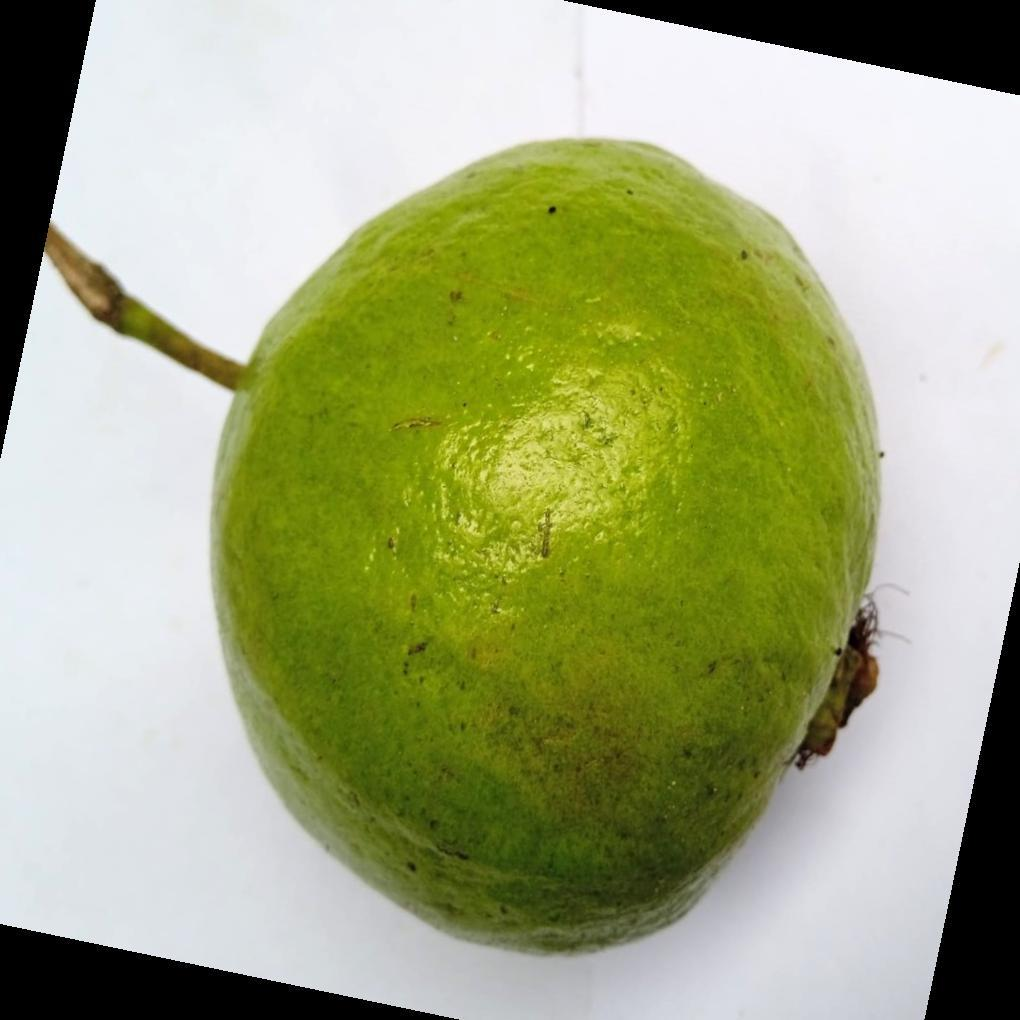FreshGuava: (207, 137, 882, 960)
